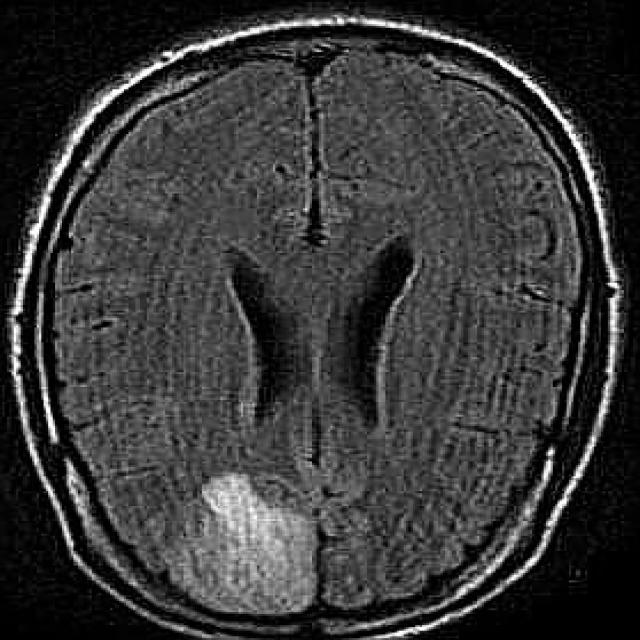Tumor-Cell: (152, 453, 345, 627)
